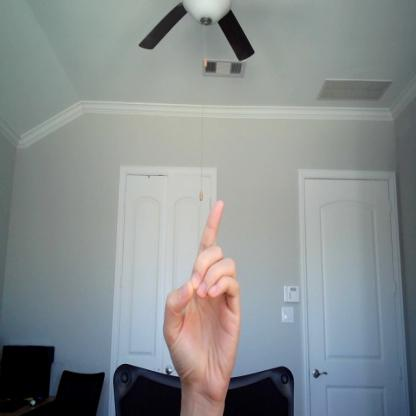D: (164, 200, 244, 391)
